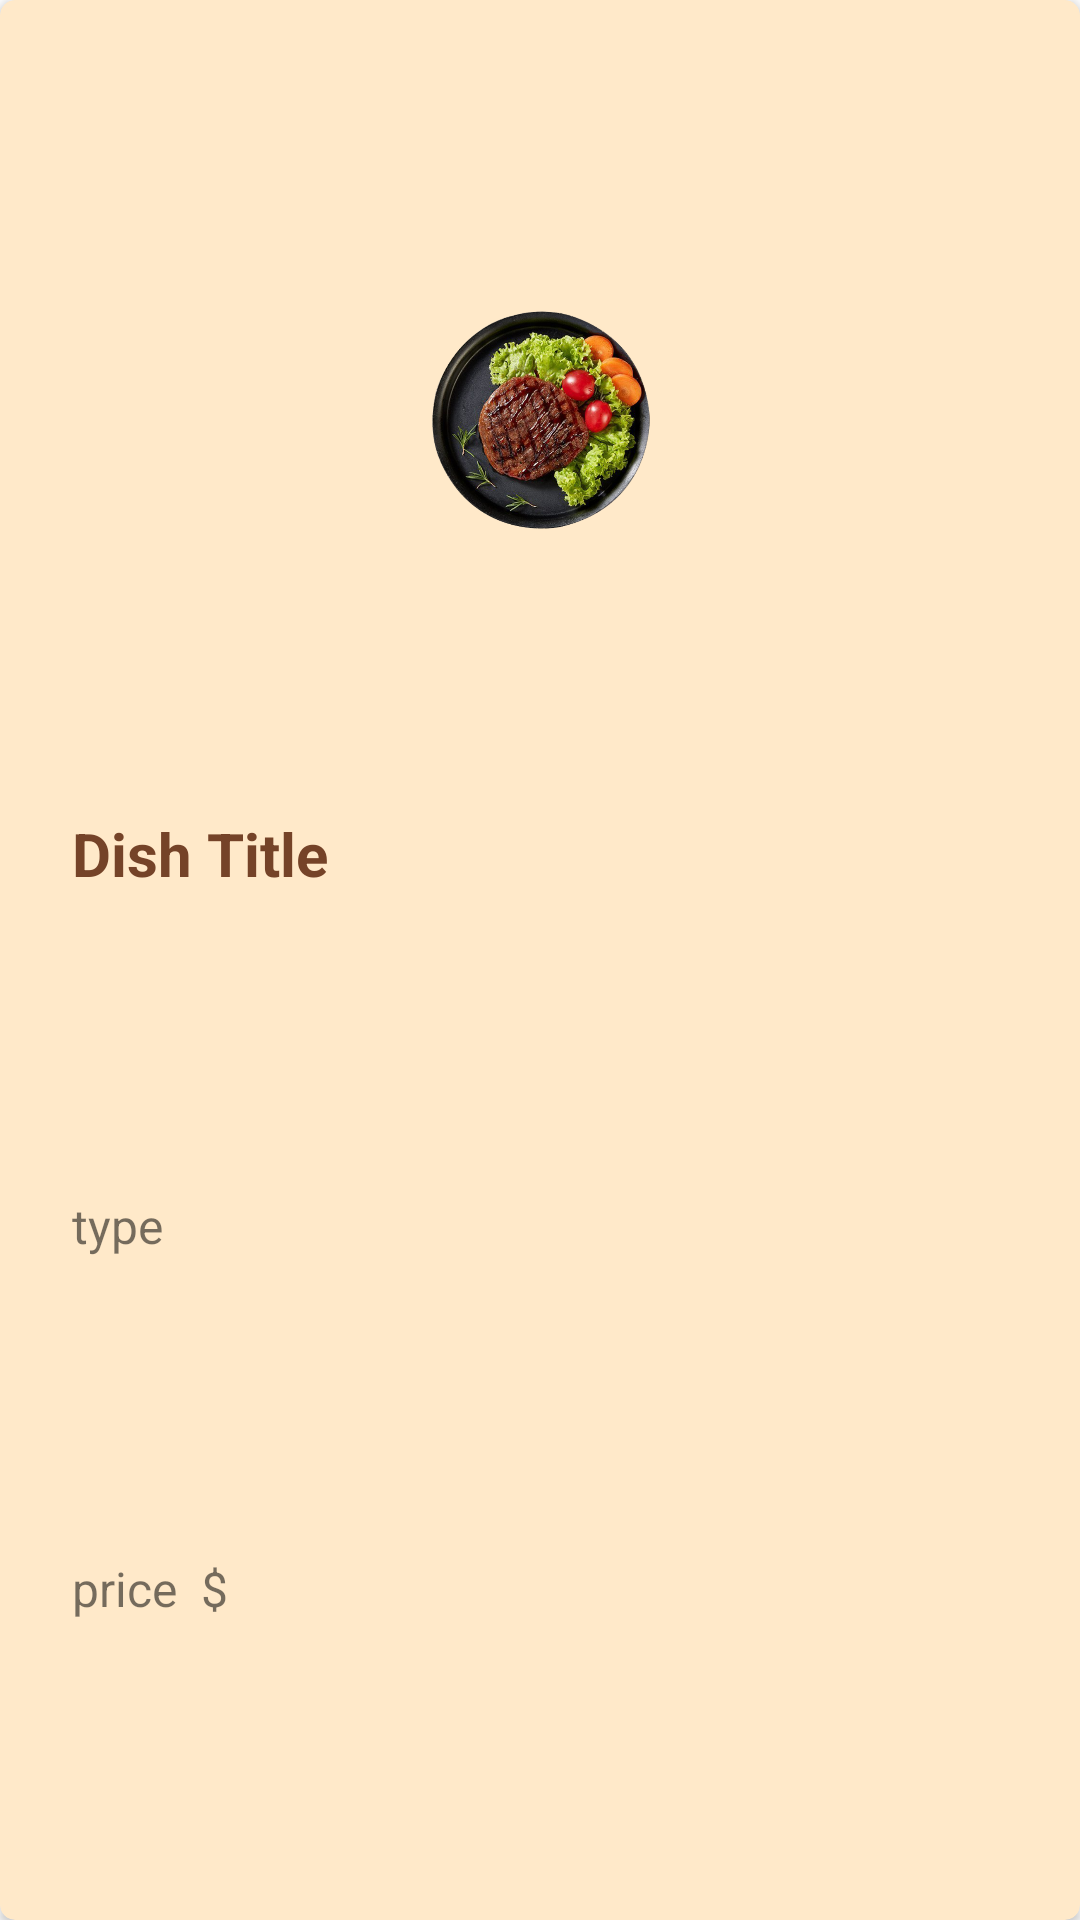

Icons on this 1080*1920 Android screen, each with its box as (x1, y1, x2, y2):
beef: (432, 311, 650, 529)
